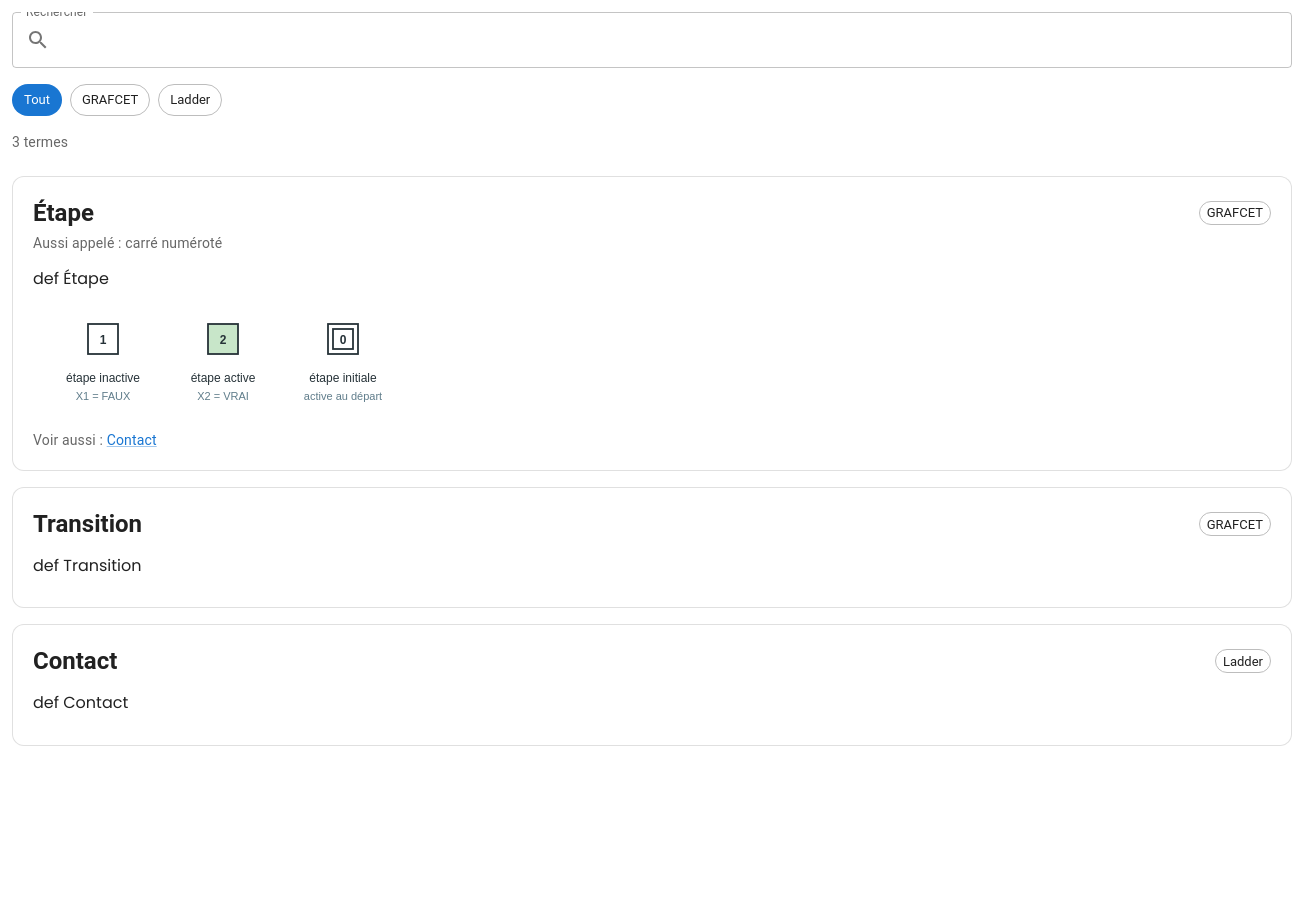
Test: GlossaryBrowser › filtre sans tenir compte des accents ni de la casse
The image size is (1304, 912).
Type "ETAPE" into the search field labelled "Rechercher" at point(675, 40), box top-left (58, 12), bottom-right (1292, 68)
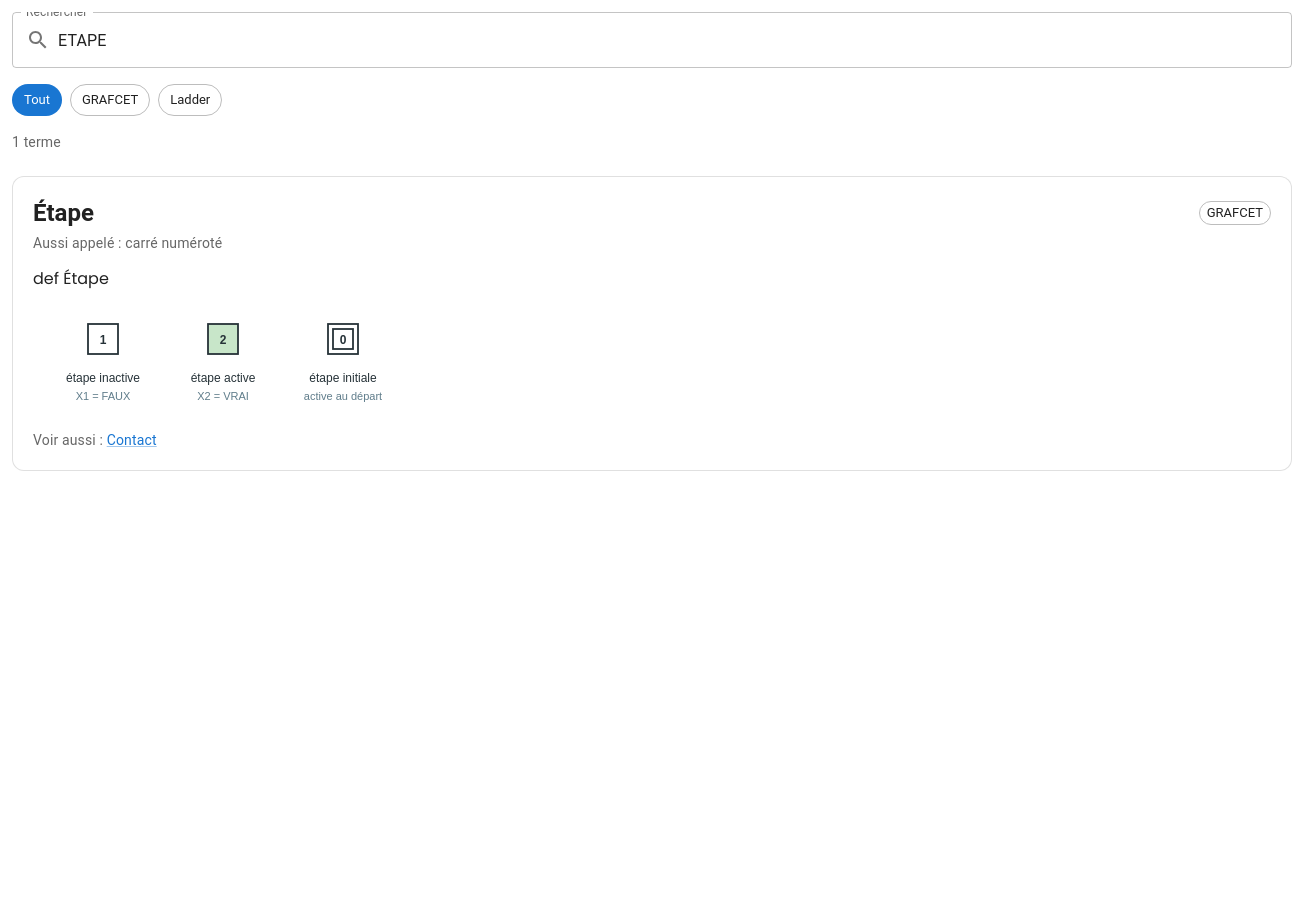
expect the heading "Étape" is shown: met, box top-left (33, 197), bottom-right (94, 229)
expect the message reads "1 terme": met, box top-left (12, 134), bottom-right (61, 150)
